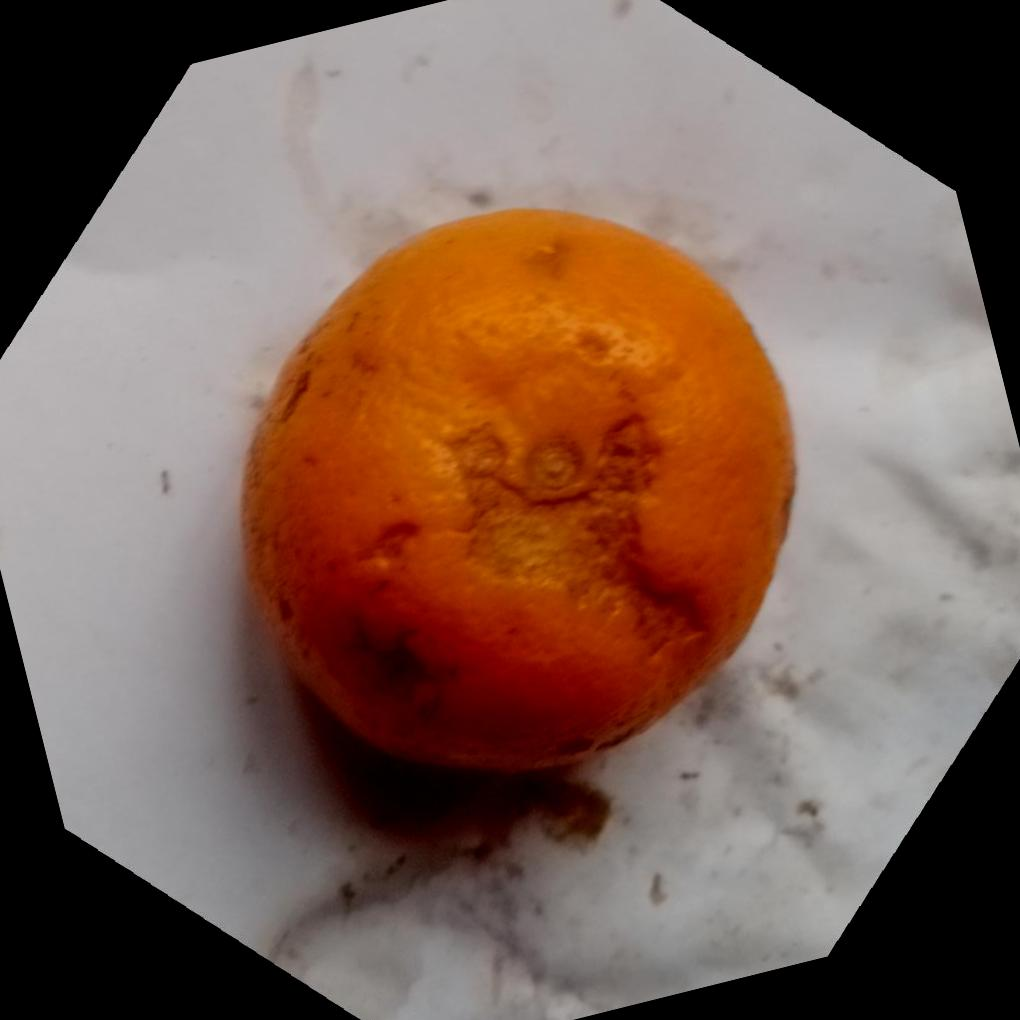FreshOrange: (235, 205, 795, 777)
